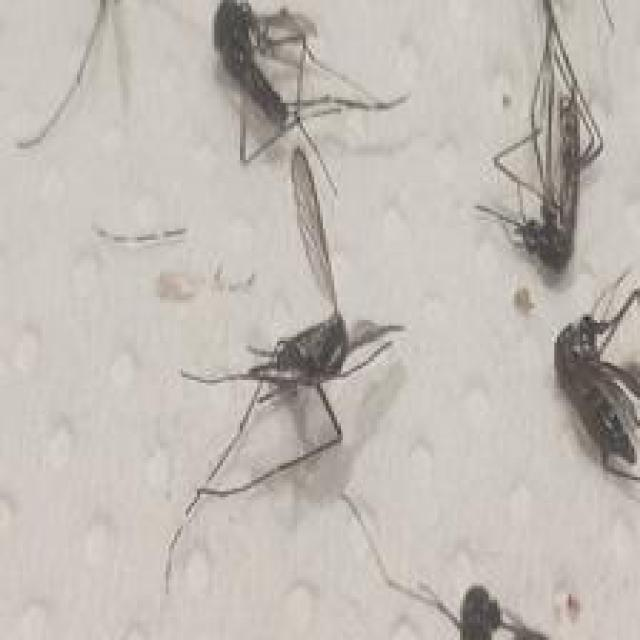Aedes albopictus: (473, 0, 616, 274)
